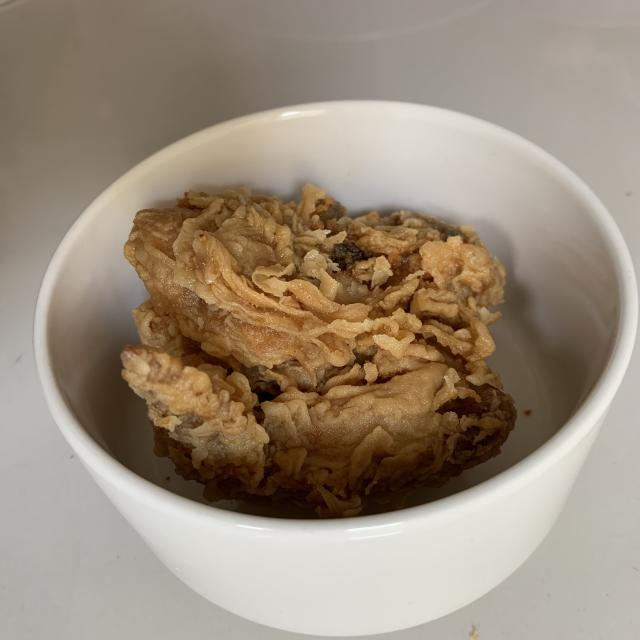Frango: (119, 187, 518, 522)
